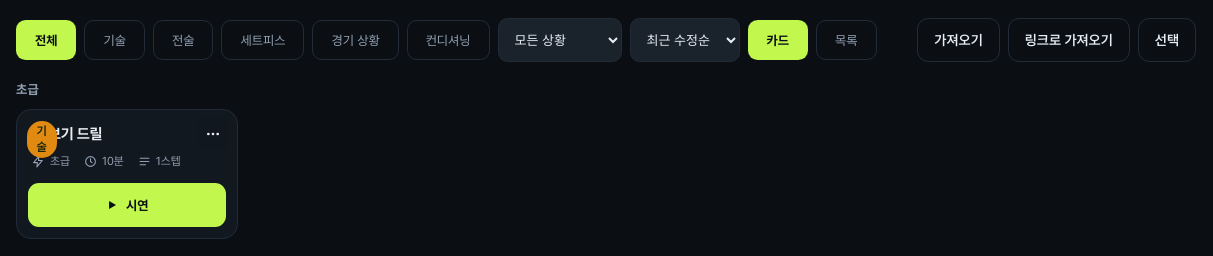
LibraryScreen — 드릴 탭 › 목록 보기로 바꾸면 썸네일 없는 행으로 그려지고, 행에서도 열기·시연이 산다 (C11)
The width and height of the screenshot is (1213, 256).
Expected: the text "행 보기 드릴" is shown, [32,125,102,143]
Click the radio button labelled "목록" at (846, 40), box [816,20,877,60]
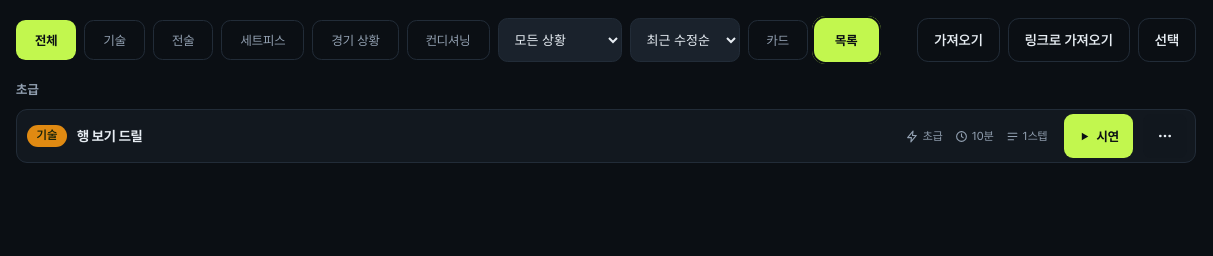
// 행에서도 같은 행동 집합이다.
Click the button with aria-label "행 보기 드릴 시연 시작" at (1098, 136), box [1064,114,1133,158]
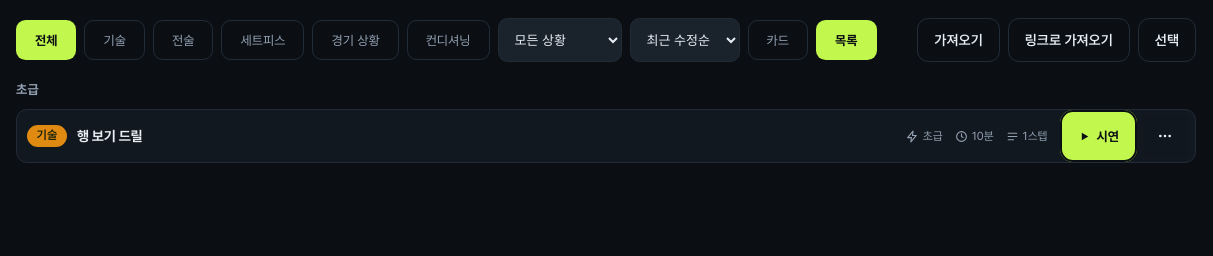
Click the button with aria-label "행 보기 드릴 열기" at (47, 136), box [21,114,1054,158]
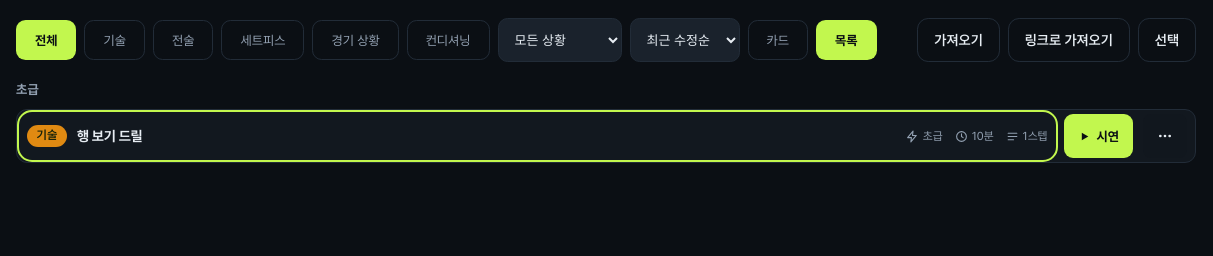
Click the button named "행 보기 드릴 더보기" at (1165, 136), box [1143,114,1187,158]
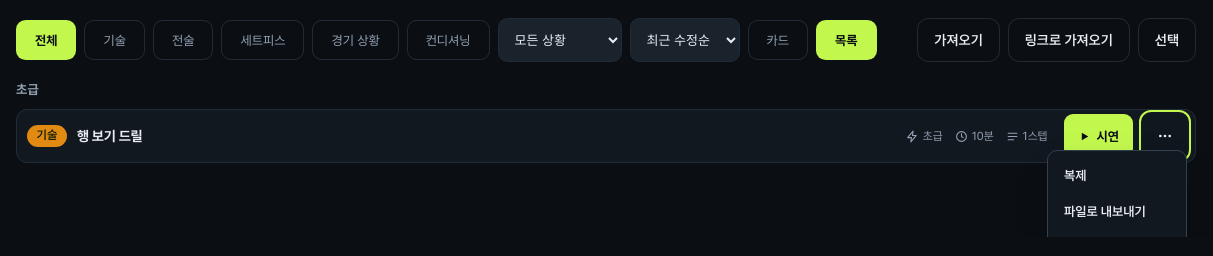
Now the menu item "복제" is shown, box [1054,157,1180,193]
